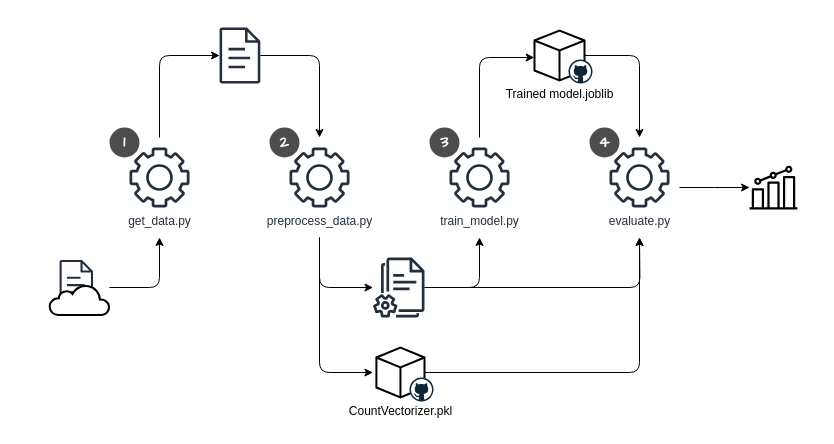
This 834x444 diagram has some shape labels left out. Here are the shapes that lost their labels. From the top down, the centre of each, then its label:
At (x=239, y=55): "raw_data.tsv".
At (x=773, y=187): "metrics.json".
At (x=79, y=300): "Remote data storage".
At (x=398, y=287): "preprocessed_data.tsv".
